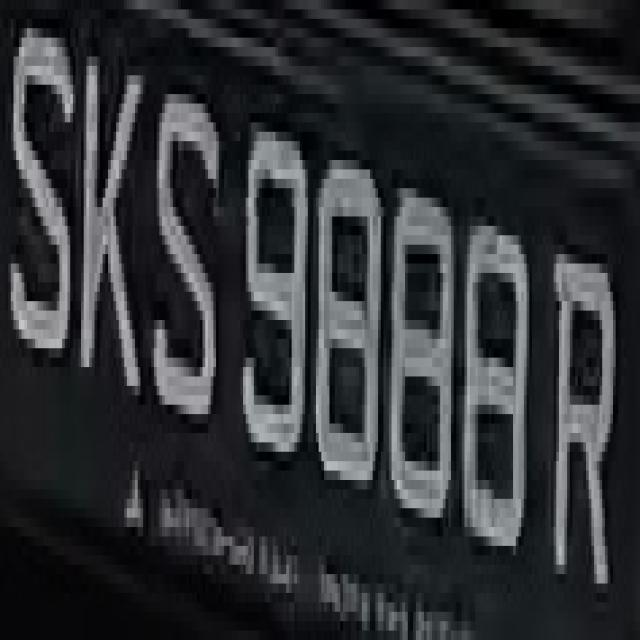8: (310, 122, 380, 508), (462, 160, 529, 555), (392, 150, 454, 546)
9: (232, 75, 313, 471)
K: (73, 9, 143, 396)
R: (543, 216, 613, 612)
S: (143, 75, 227, 405), (8, 9, 70, 377)
